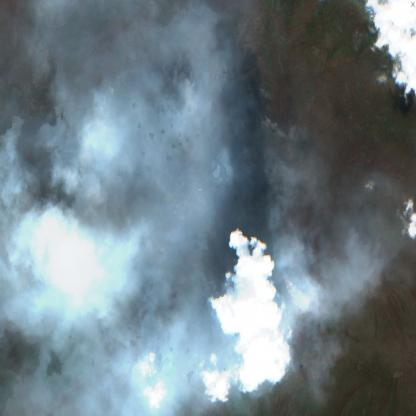fire: (34, 49, 282, 298)
